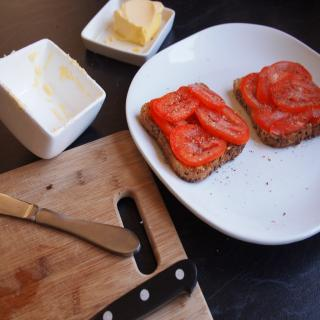tomato: (254, 59, 316, 106), (169, 122, 225, 166), (270, 75, 320, 120), (196, 102, 248, 144), (151, 89, 196, 123), (253, 108, 303, 136), (240, 68, 268, 111), (188, 83, 228, 109)
